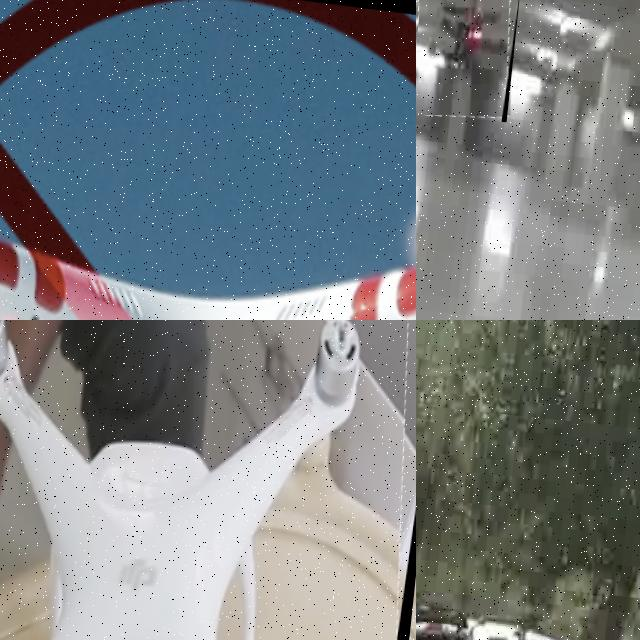0: (416, 0, 520, 121)
drone: (0, 0, 416, 320), (0, 320, 416, 640)
